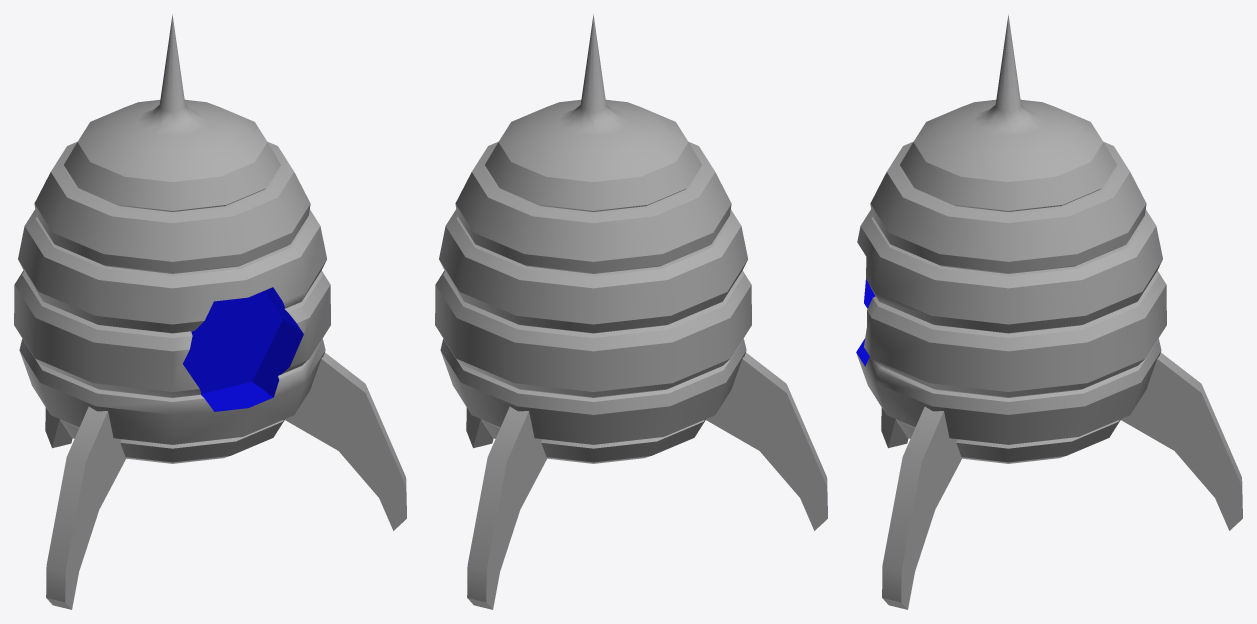
Rendered from BeeRocket.fbx.
The picture shows the model from 3 angles, left to right: view 1: azimuth 30°, elevation 25°; view 2: azimuth 150°, elevation 25°; view 3: azimuth 270°, elevation 25°; orthographic projection.
Parts seen in each view (by area): view 1: polySurface1, pCube1, pCube3, pCube2; view 2: polySurface1, pCube3, pCube2, pCube1; view 3: polySurface1, pCube2, pCube1, pCube3.
Boxes of the visible parts, bbox=[...] form: polySurface1: bbox=[14, 14, 330, 463]; pCube1: bbox=[285, 352, 406, 530]; pCube3: bbox=[46, 406, 126, 609]; pCube2: bbox=[45, 407, 72, 448]; polySurface1: bbox=[435, 14, 751, 463]; pCube3: bbox=[706, 352, 827, 530]; pCube2: bbox=[467, 406, 547, 609]; pCube1: bbox=[466, 407, 493, 448]; polySurface1: bbox=[856, 14, 1166, 463]; pCube2: bbox=[1121, 352, 1242, 530]; pCube1: bbox=[882, 407, 962, 609]; pCube3: bbox=[881, 408, 908, 448].
Bounding box in the file's own units: 942 × 1278 × 873.
